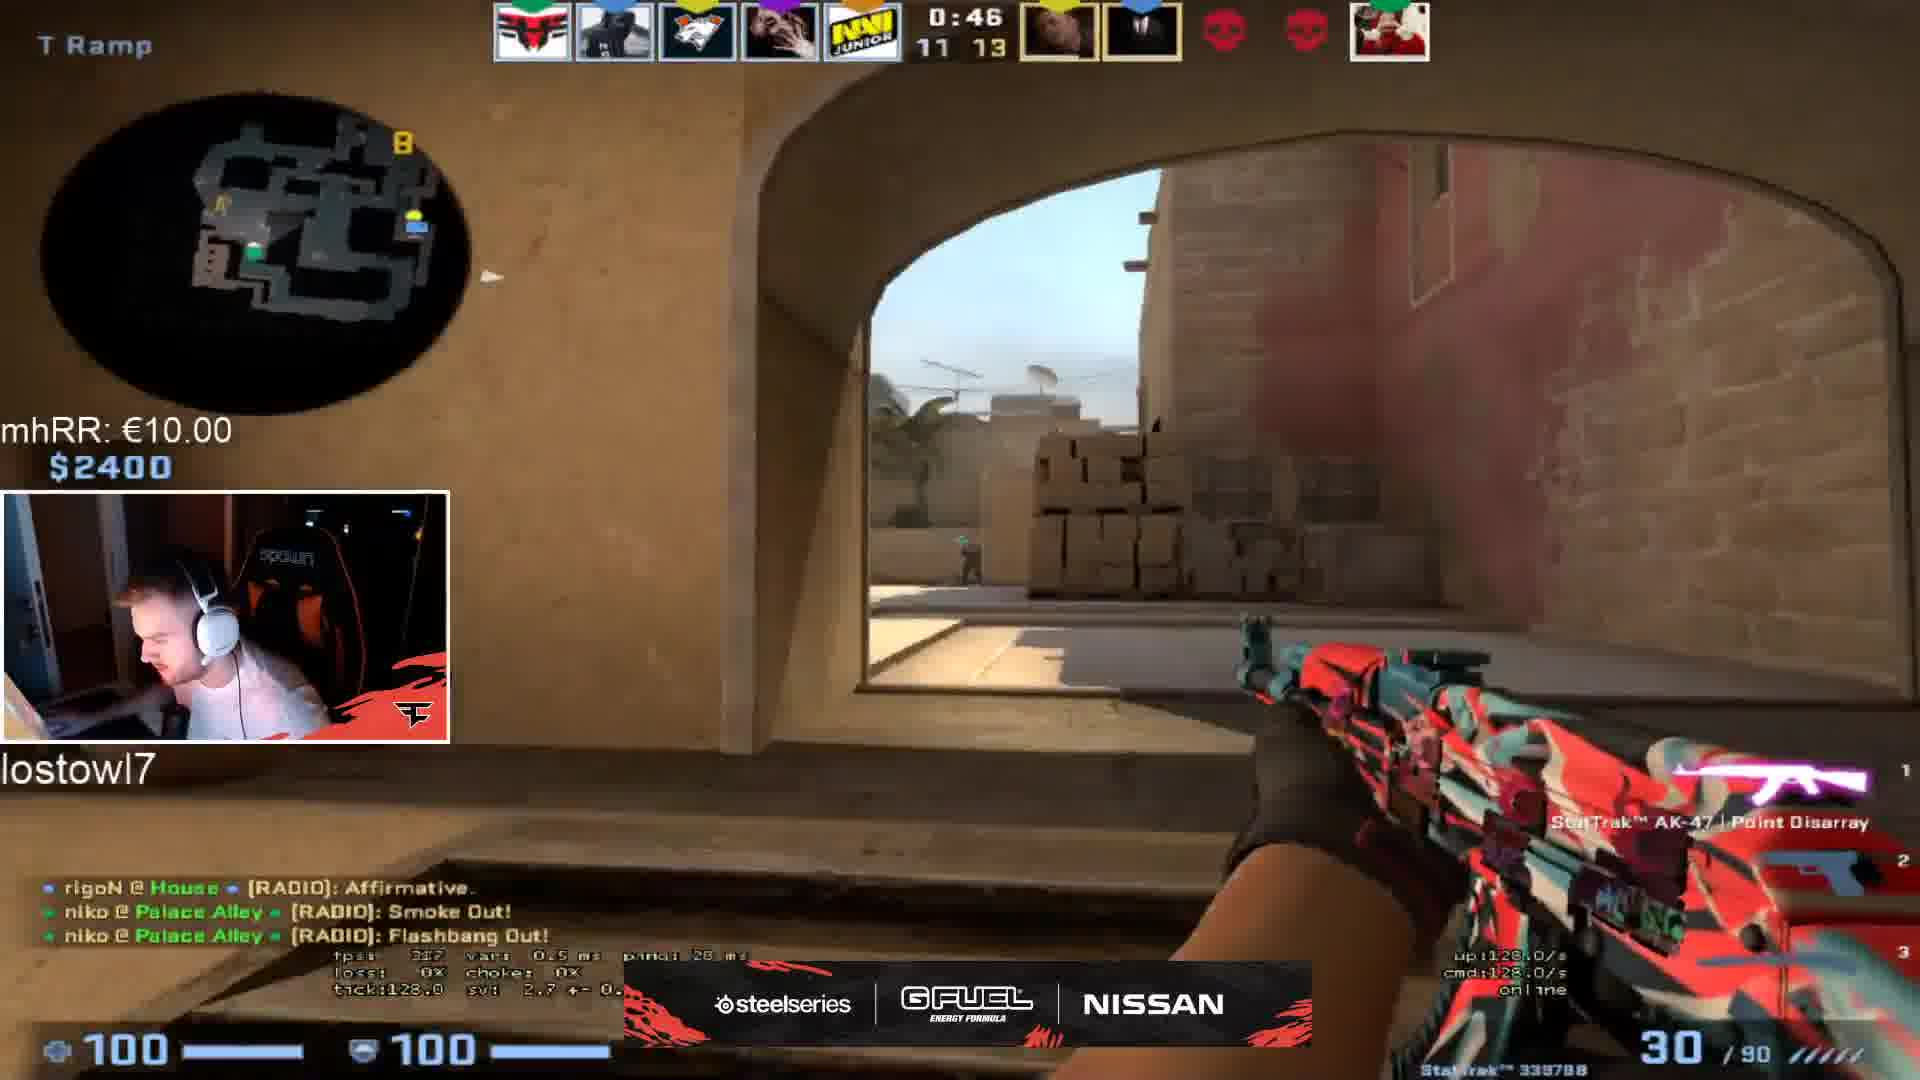enemy: (957, 537, 988, 587)
